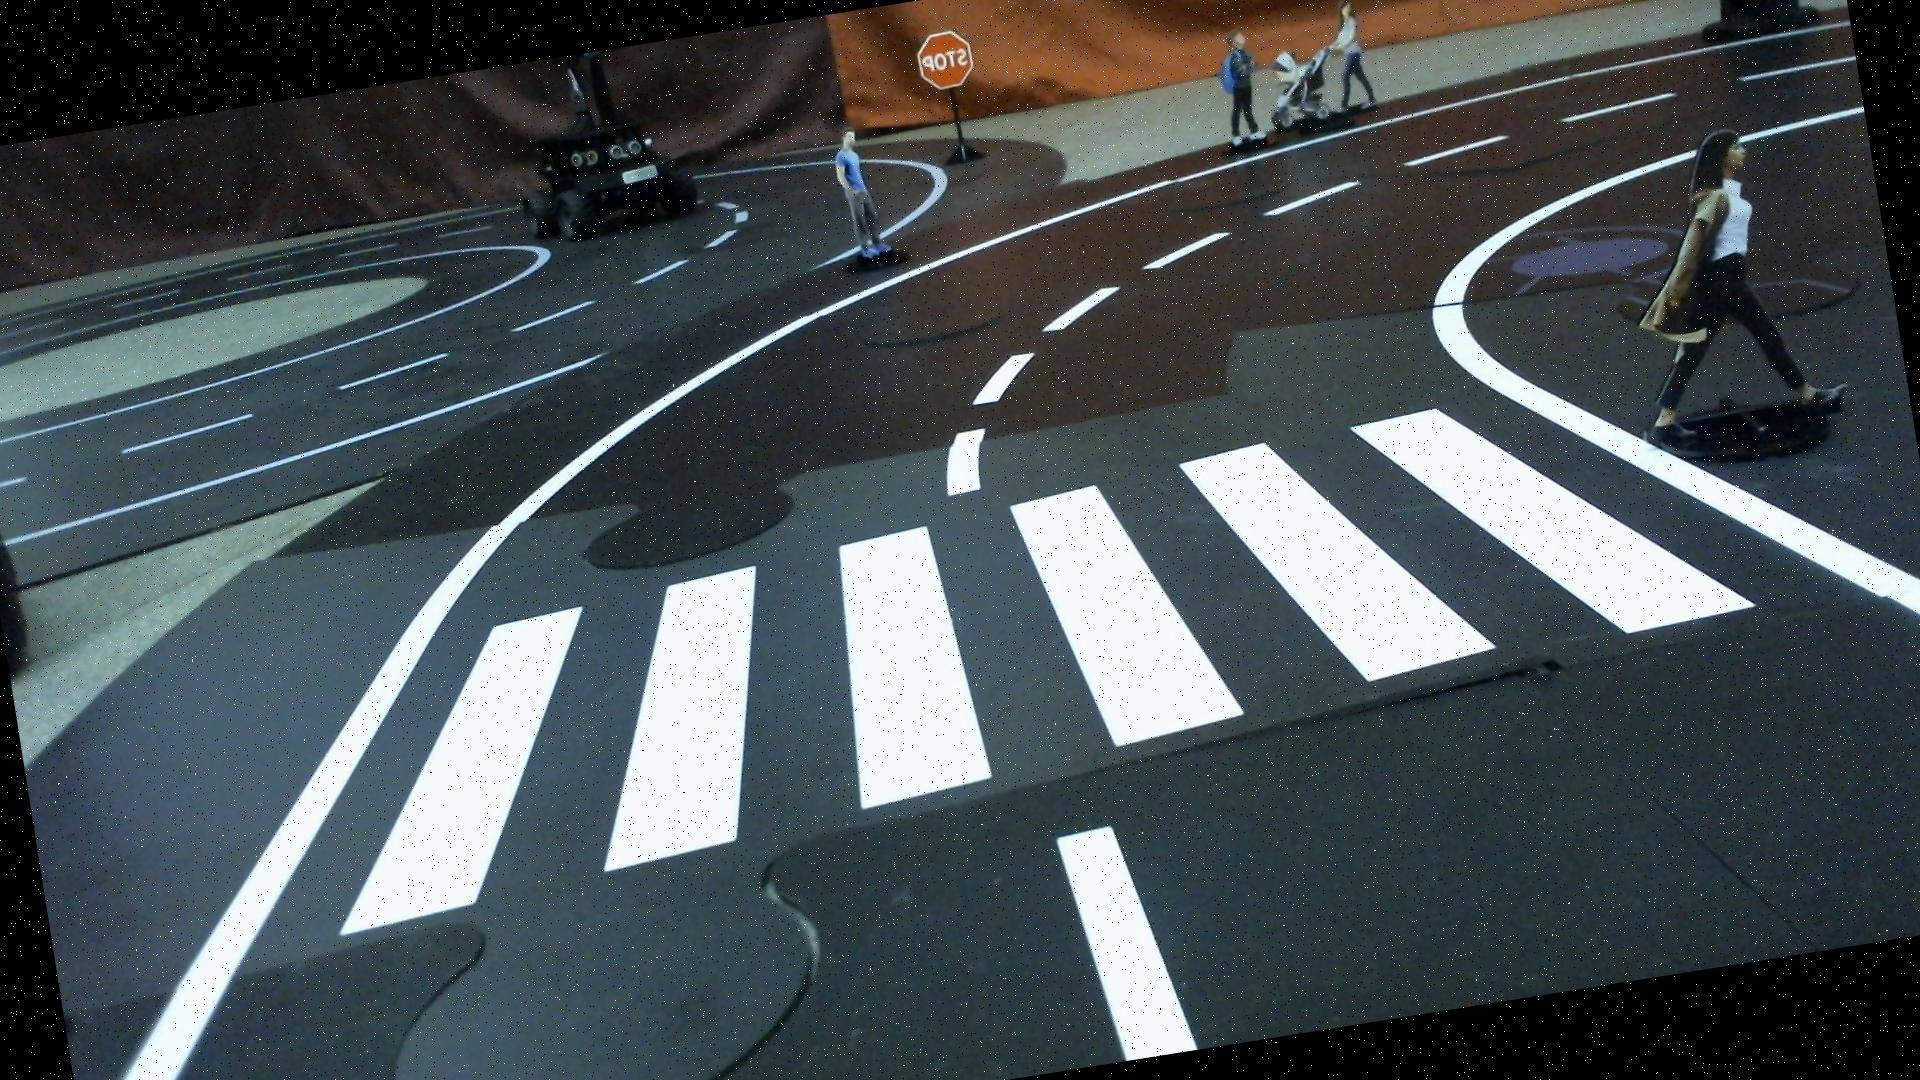crossing: (195, 345, 1801, 968)
person: (1596, 111, 1874, 486), (1256, 0, 1384, 136), (828, 124, 892, 272), (1205, 24, 1271, 156)
